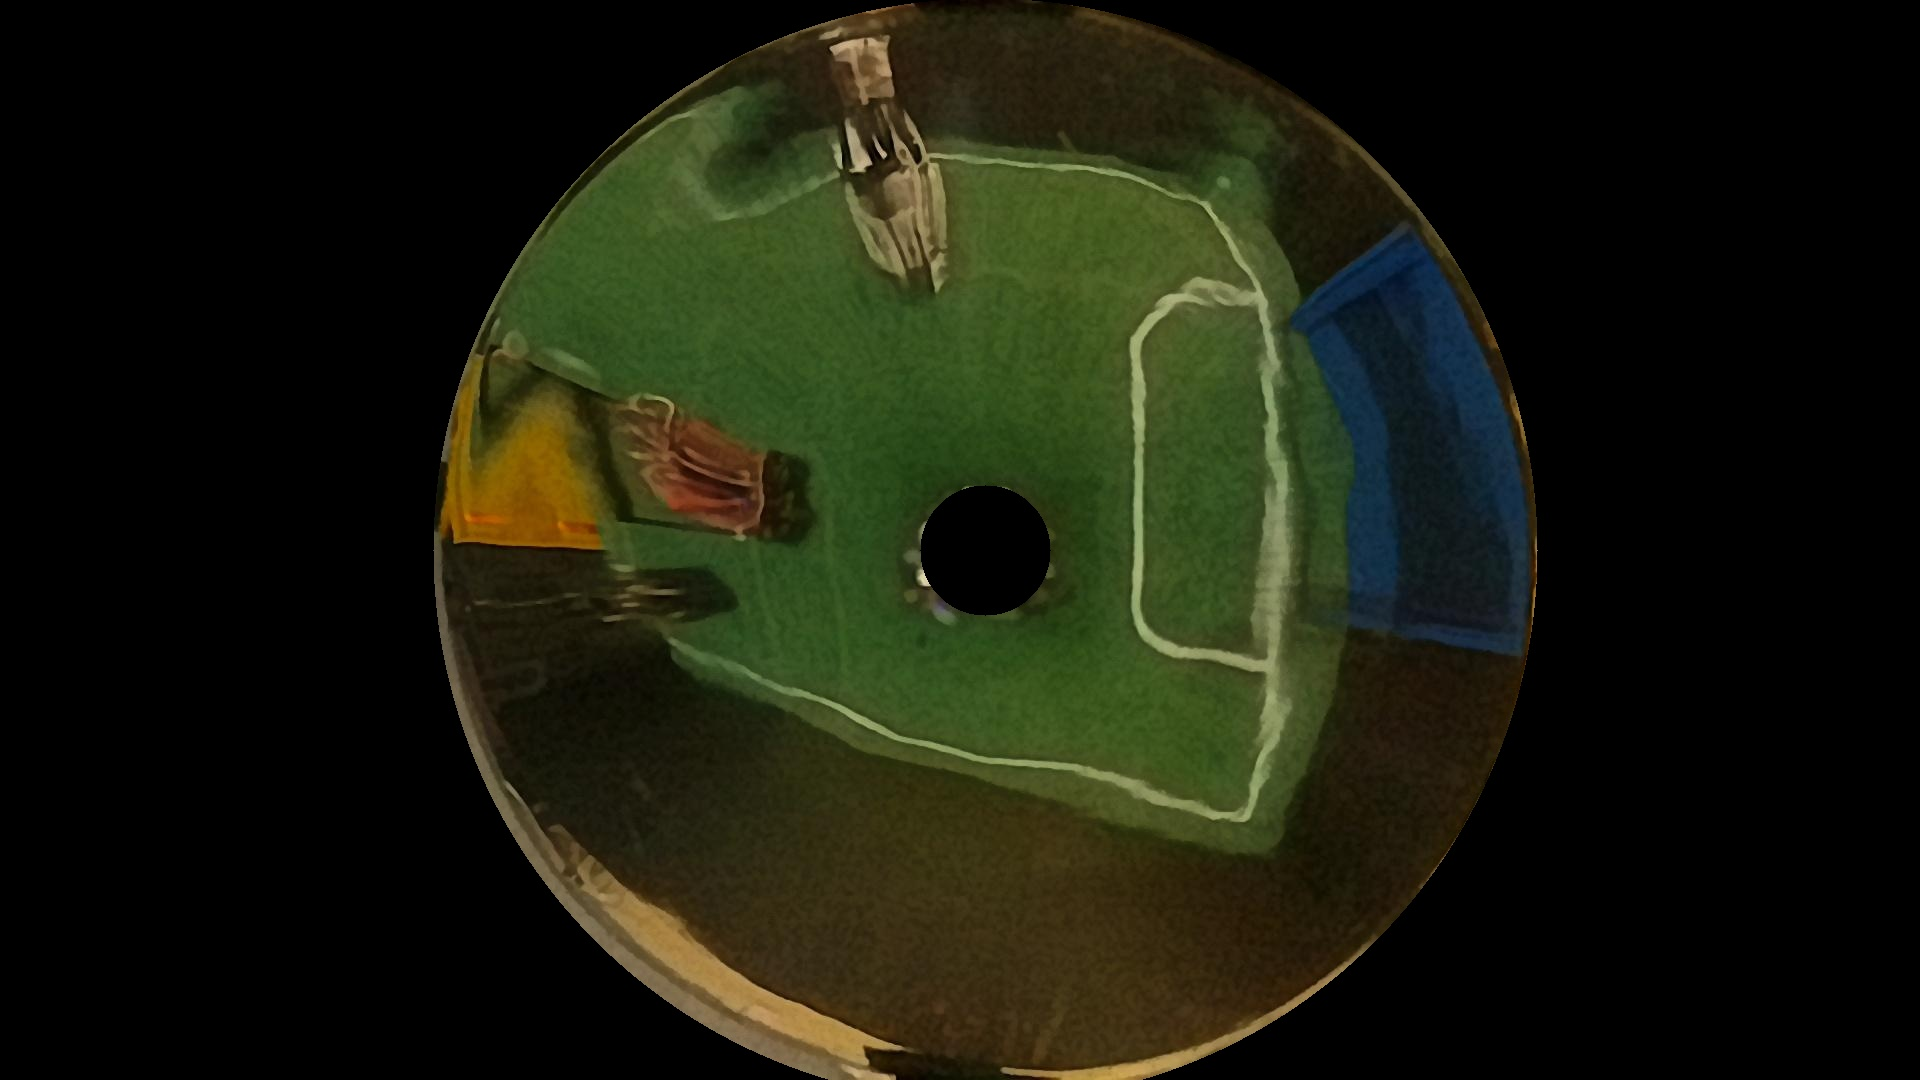blue-goal: (1302, 235, 1527, 644)
robots: (848, 61, 949, 281), (632, 411, 798, 535), (560, 572, 735, 617)
yellow-goal: (455, 364, 609, 551)
